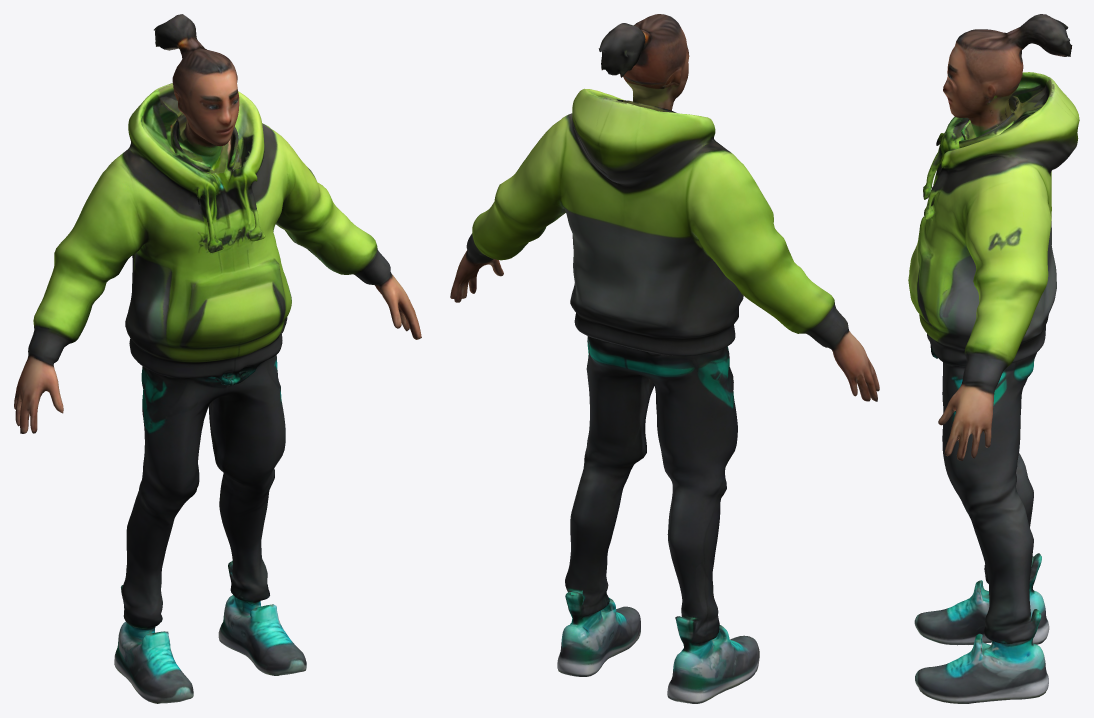
Rendered from character.glb.
3 views of the same model, side by side, from view 1: azimuth 30°, elevation 25°; view 2: azimuth 150°, elevation 25°; view 3: azimuth 270°, elevation 25° (orthographic). The views are drawn at different scales.
Bounding box in the file's own units: 1.31 × 2 × 0.4767.
Materials: 1 (1 with a texture image).
